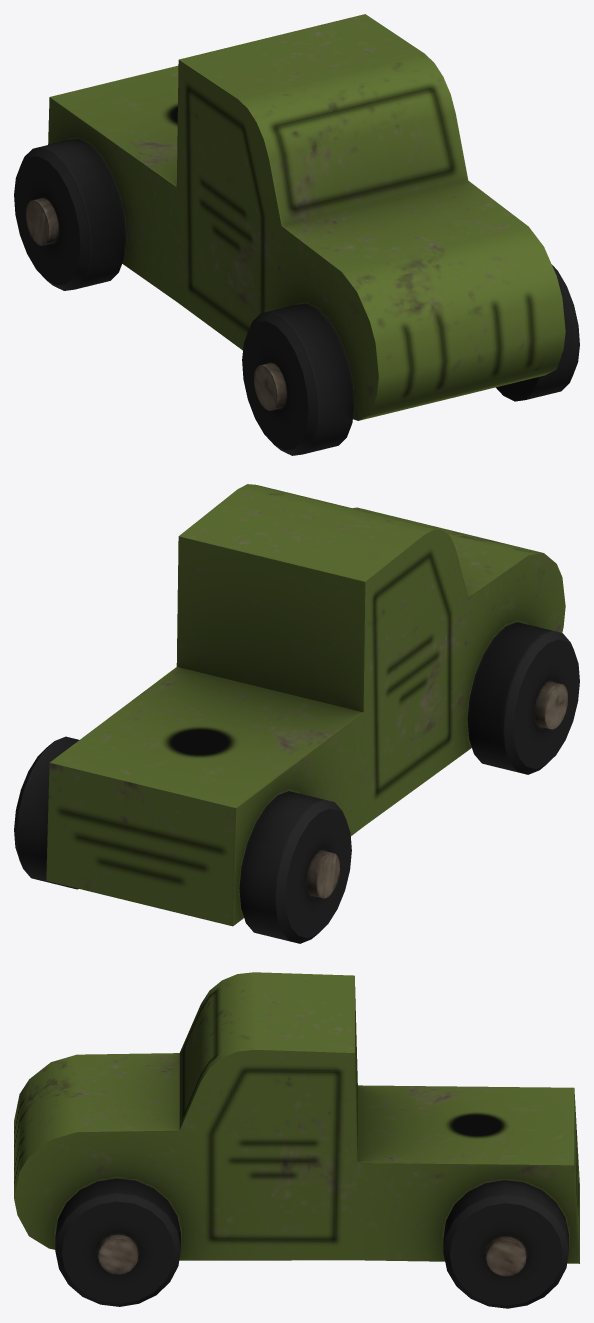
File: Car Toy.fbx
3 renders of one model, top to bottom at view 1: azimuth 30°, elevation 25°; view 2: azimuth 150°, elevation 25°; view 3: azimuth 270°, elevation 25°, orthographic. The views are drawn at different scales.
Parts seen in each view (by area): view 1: Car_Toy_Base, Car_Toy_Front_Wheels, Car_Toy_Back_Wheels; view 2: Car_Toy_Base, Car_Toy_Back_Wheels, Car_Toy_Front_Wheels; view 3: Car_Toy_Base, Car_Toy_Front_Wheels, Car_Toy_Back_Wheels.
Part boxes in pixels (box(x1,y1,x2,y2)): Car_Toy_Base: box(48, 14, 565, 420); Car_Toy_Front_Wheels: box(242, 265, 579, 455); Car_Toy_Back_Wheels: box(14, 138, 126, 290); Car_Toy_Base: box(46, 484, 565, 926); Car_Toy_Back_Wheels: box(14, 736, 351, 943); Car_Toy_Front_Wheels: box(467, 622, 579, 774); Car_Toy_Base: box(14, 972, 579, 1263); Car_Toy_Front_Wheels: box(55, 1178, 180, 1306); Car_Toy_Back_Wheels: box(443, 1180, 568, 1308).
Size of the model in its own units: 15.06 by 14.19 by 29.84.
Materials: 1 (1 with a texture image).
